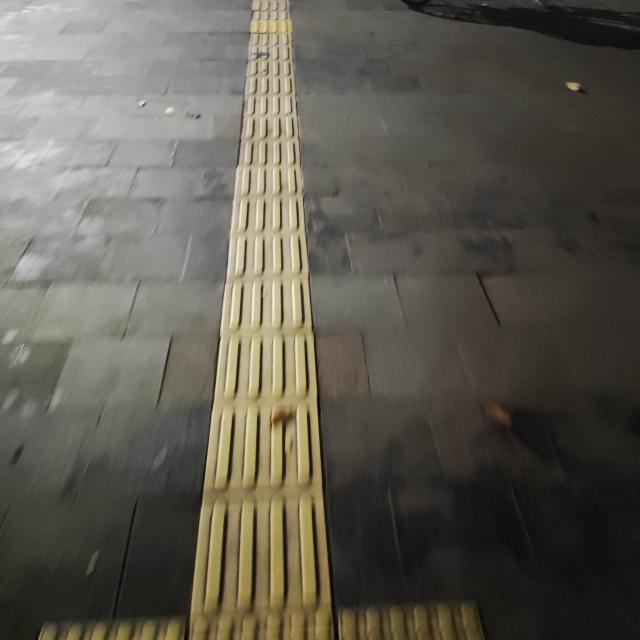lurus: (192, 17, 329, 585)
